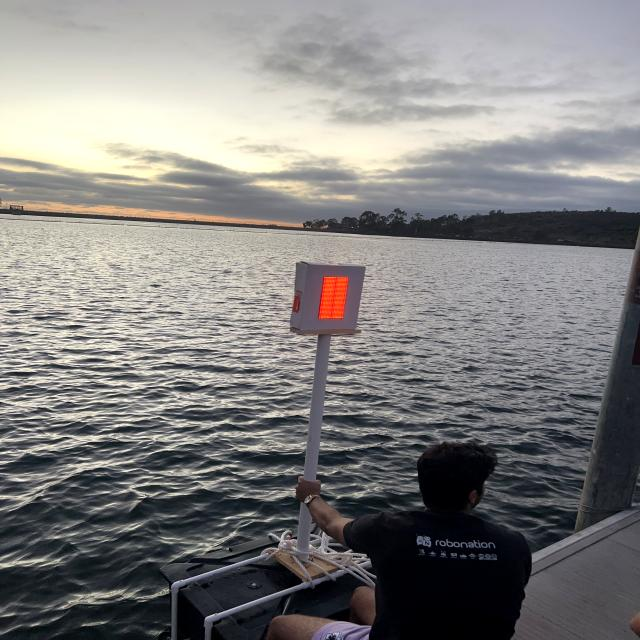led: (303, 260, 362, 327)
